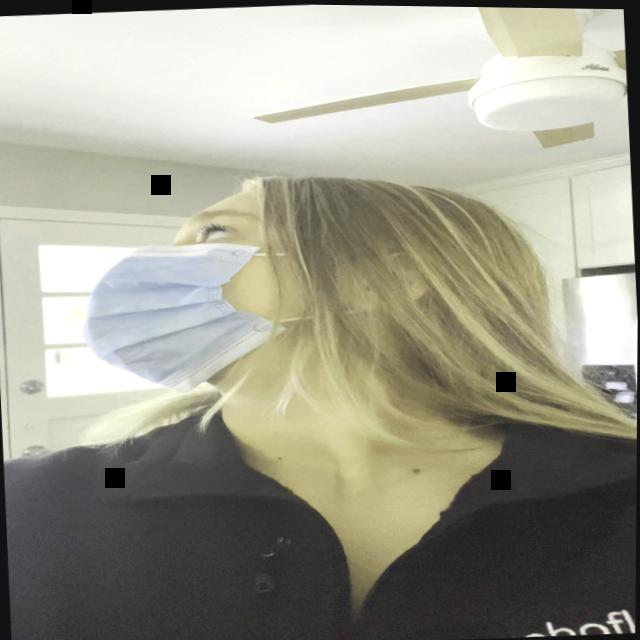Mask: (71, 179, 300, 398)
